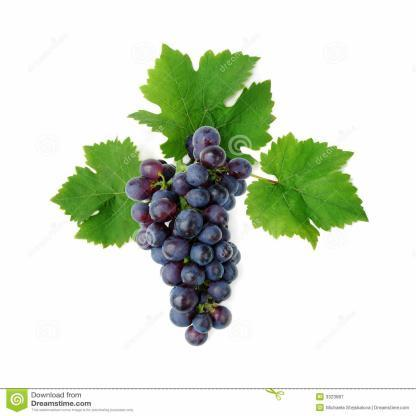grape leaf black rot: (127, 40, 285, 154), (246, 134, 373, 250), (42, 135, 148, 253)
